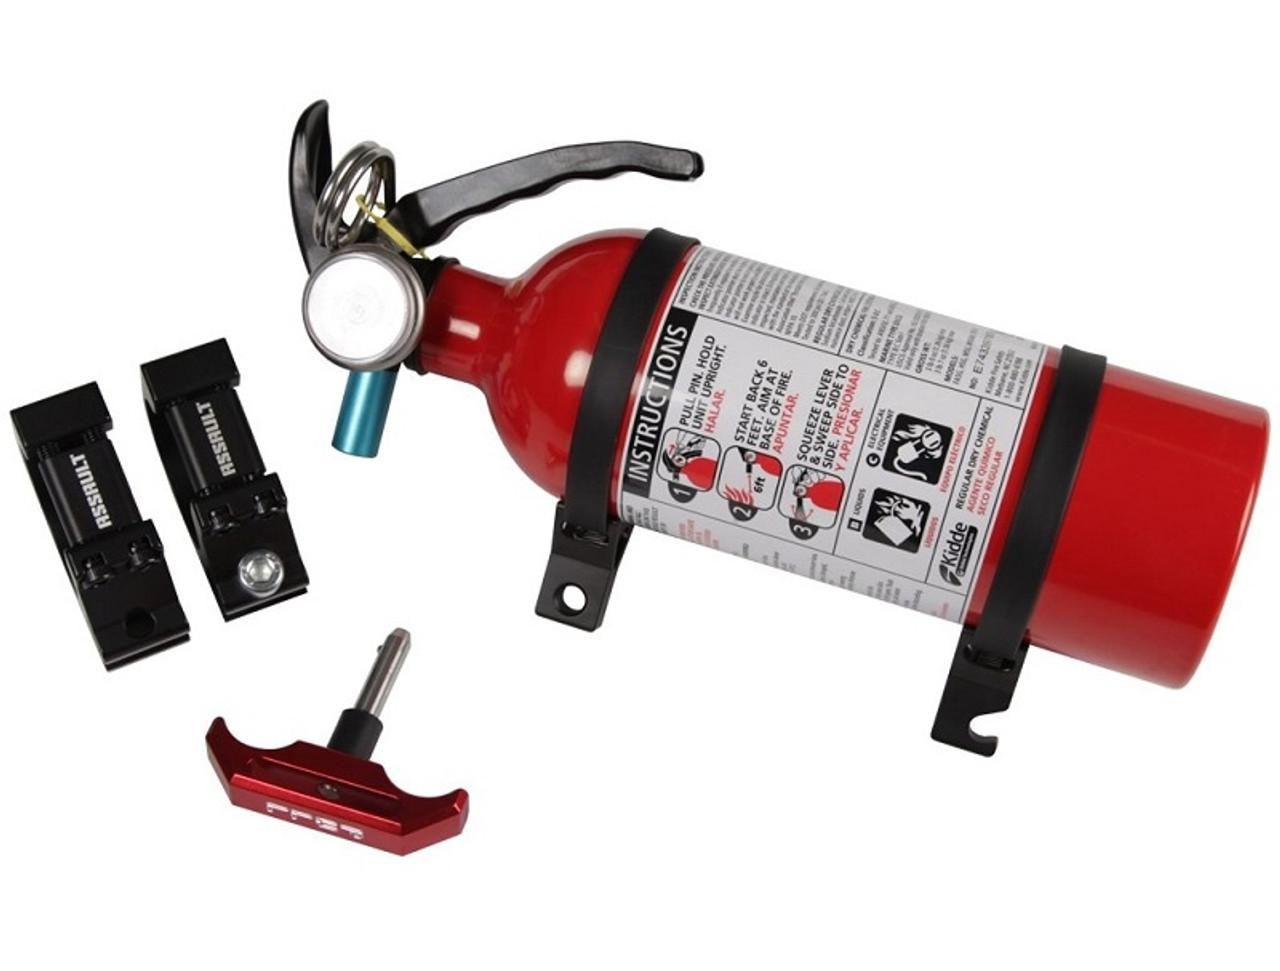Fire Extinguisher: (280, 93, 1280, 700)
